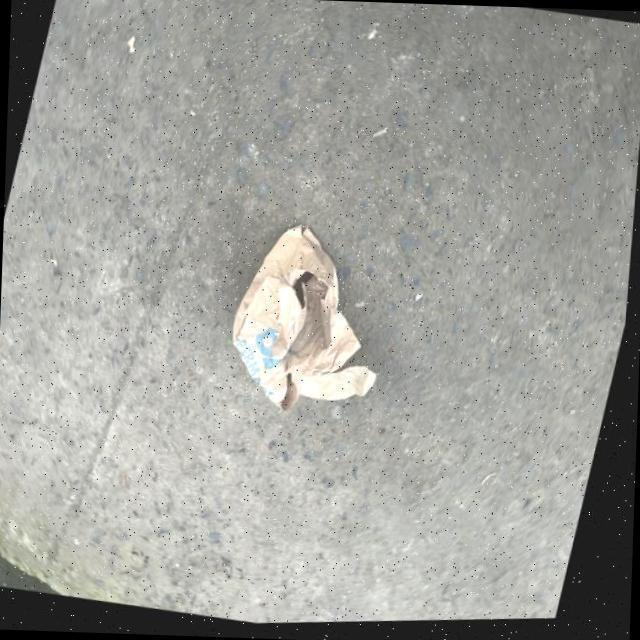Paper_Bag: (220, 218, 418, 432)
